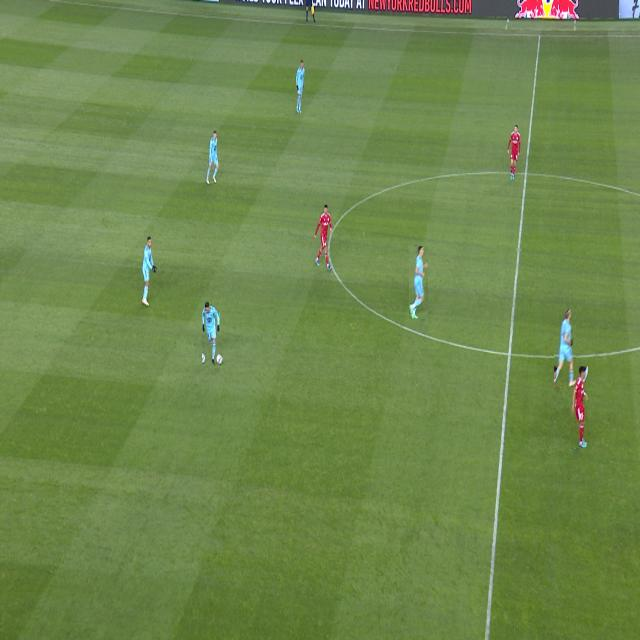football: (217, 354, 222, 364)
player: (554, 310, 576, 387), (571, 367, 588, 448), (409, 247, 428, 319), (314, 205, 332, 270), (142, 237, 157, 306), (203, 302, 219, 366), (508, 125, 521, 180), (206, 130, 219, 184), (296, 60, 305, 113)
